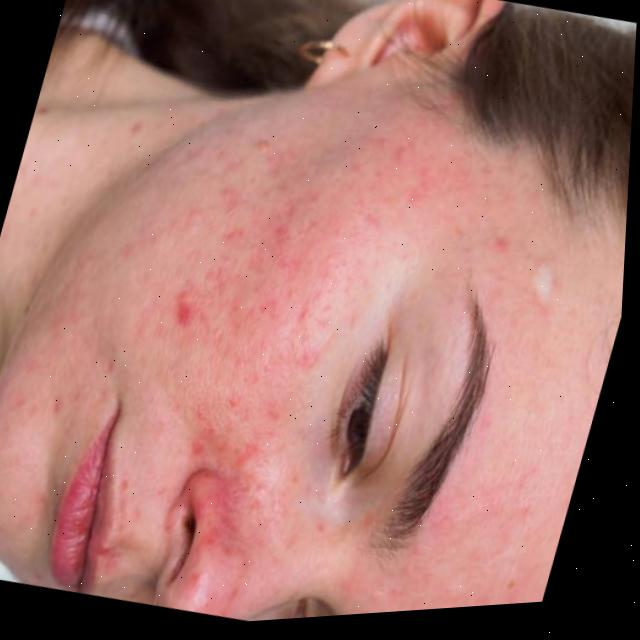Rosacea: (118, 120, 392, 517), (325, 105, 543, 280), (335, 448, 557, 615), (181, 491, 276, 624)
